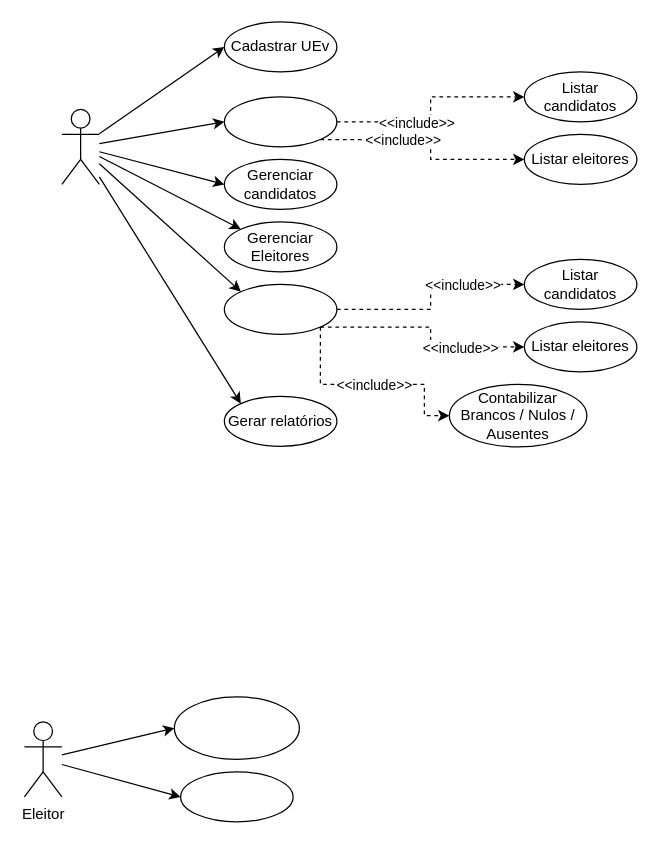
The diagram is 659 pixels wide and 845 high, and some of its shapes have lost their labels. Each missing label, with the box of its shape:
Administrador: (61, 108, 99, 184)
Confirmar n° de inscrição: (173, 696, 299, 759)
Totalizar votos: (223, 283, 337, 334)
Validar UEv: (223, 96, 337, 147)
Votar: (179, 771, 293, 822)
